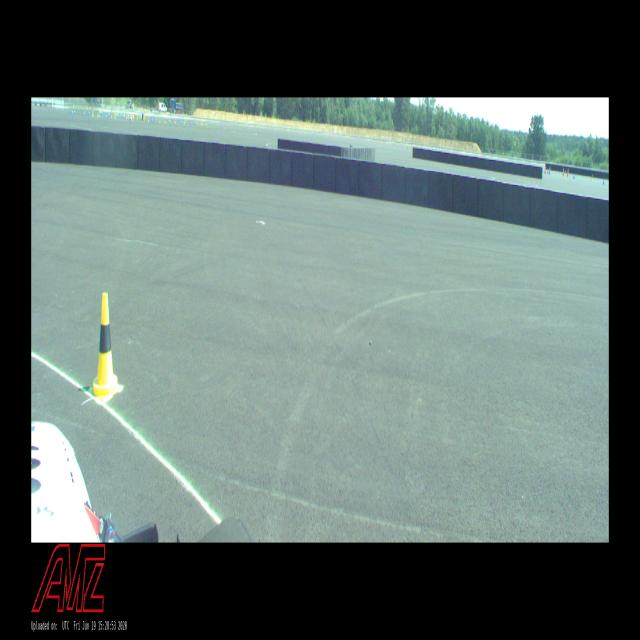yellow_cone: (89, 292, 119, 401)
